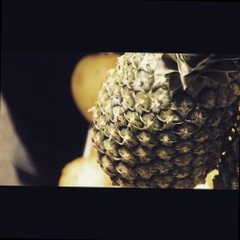Pineapple: (91, 49, 237, 186)
